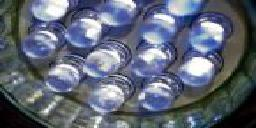LED: (90, 75, 133, 115), (43, 53, 84, 93), (181, 54, 217, 88), (61, 19, 104, 46), (82, 49, 123, 77), (132, 47, 170, 71)
